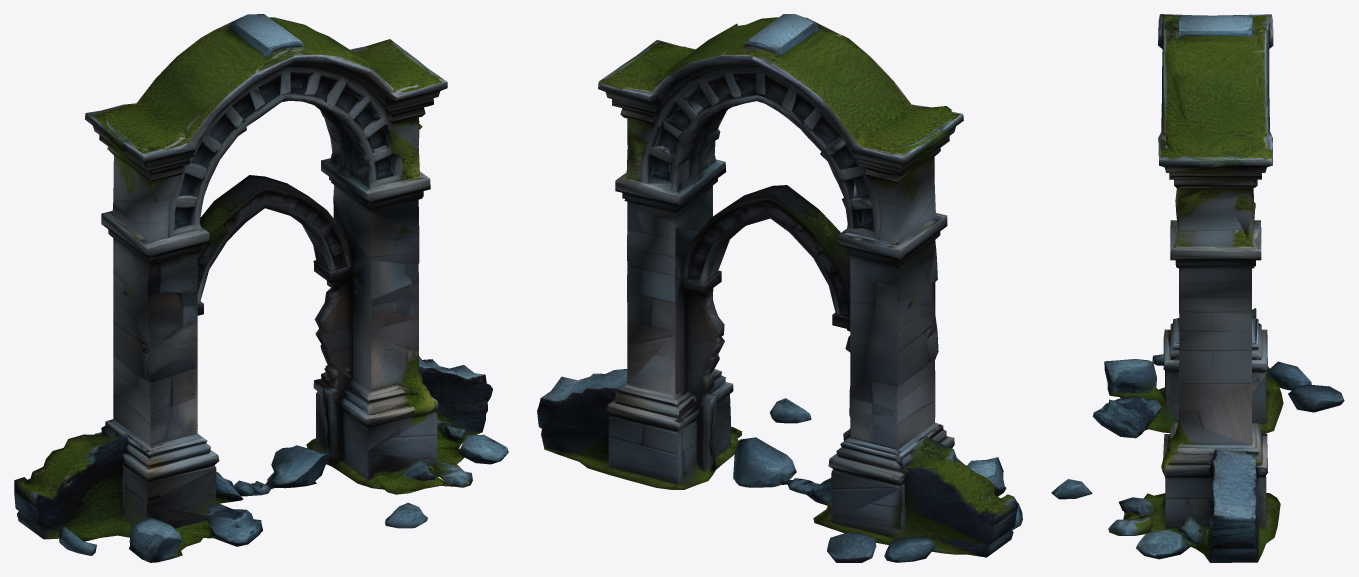
File: arch.glb
The picture shows the model from 3 angles, left to right: view 1: azimuth 30°, elevation 25°; view 2: azimuth 150°, elevation 25°; view 3: azimuth 270°, elevation 25°; orthographic projection. The views are drawn at different scales.
Visible parts, largest first — view 1: node_0; view 2: node_0; view 3: node_0.
Part boxes in pixels (box(x1,y1,x2,y2)): node_0: box(14, 14, 508, 562); node_0: box(537, 14, 1022, 562); node_0: box(1051, 14, 1344, 562).
Bounding box in the file's own units: 126 × 120 × 72.09.
Materials: 1 (1 with a texture image).
